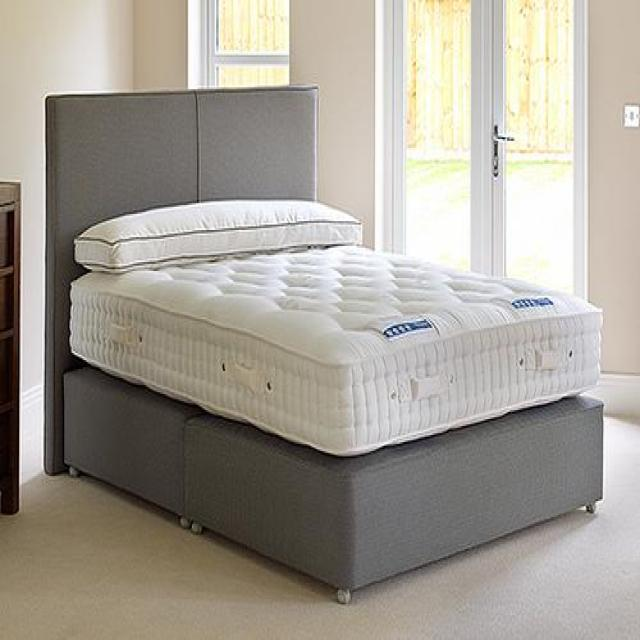bed: (42, 82, 604, 604)
